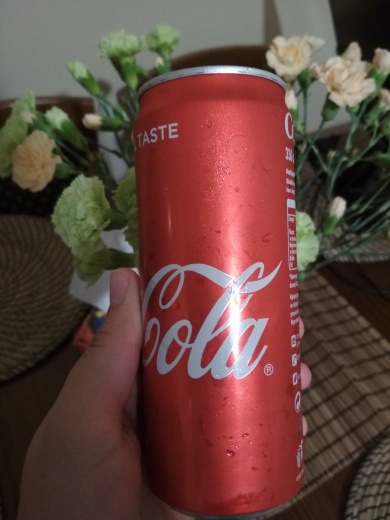cola: (129, 60, 312, 517)
